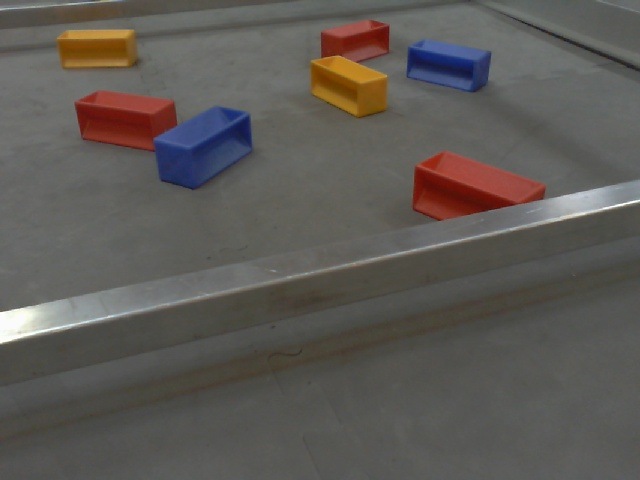BlueSample: (151, 101, 254, 190), (404, 35, 492, 95)
RedSample: (409, 145, 548, 226), (73, 88, 182, 152), (315, 18, 391, 64)
YellowSample: (308, 52, 391, 119), (54, 28, 142, 70)
